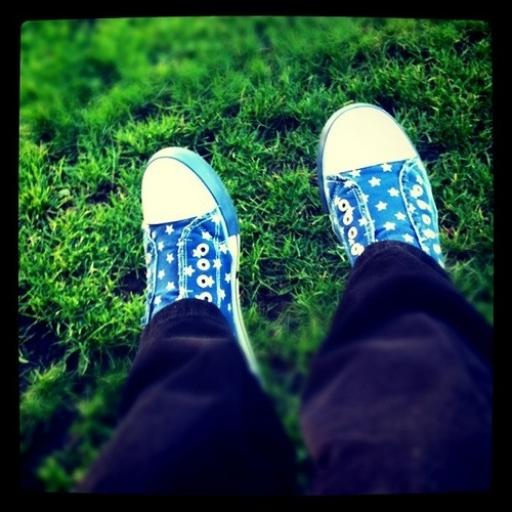shoe: (141, 147, 258, 373), (316, 104, 444, 268)
